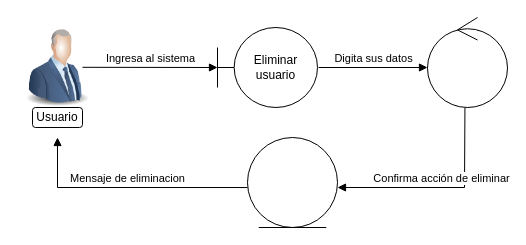
The diagram is 526 pixels wide and 245 high, and some of its shapes have lost their labels. The shapes that lost their labels are listed below. From the top down, each one's box as (x1, y1, x2, y2) in pixels, then its label:
(426, 16, 508, 108): Confirmación de identidad
(246, 136, 338, 228): Elimina usuario de la base de datos
